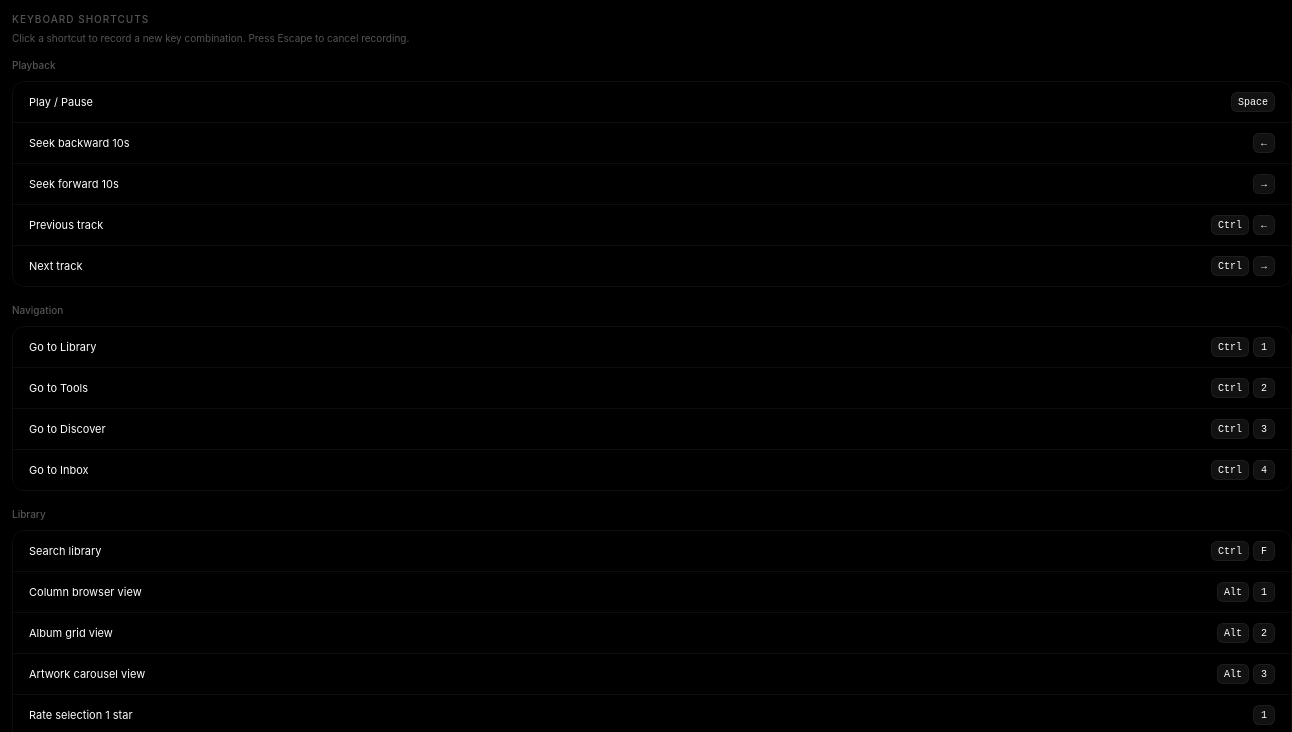
Test: ShortcutsSection › records a new binding on keydown
Click the button with test id "shortcut-playPause": (1239, 102) [1203, 92, 1275, 112]
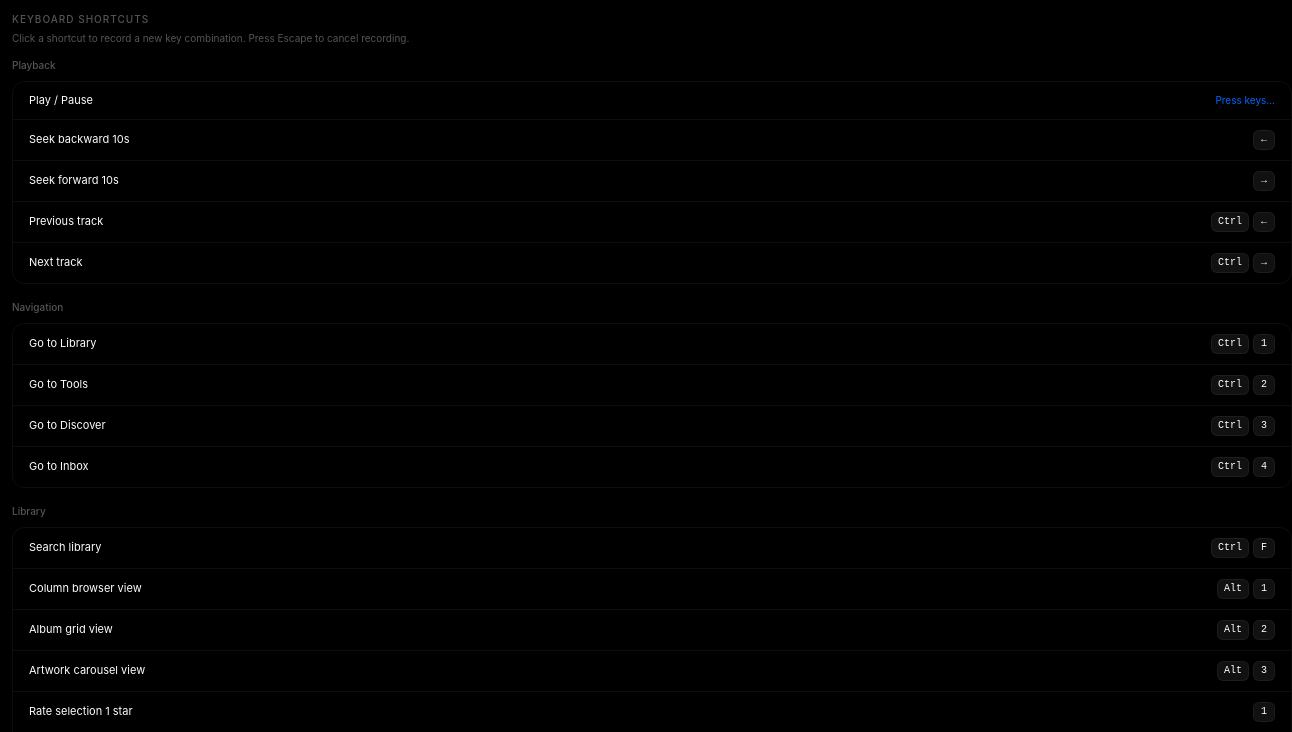
Press KeyK
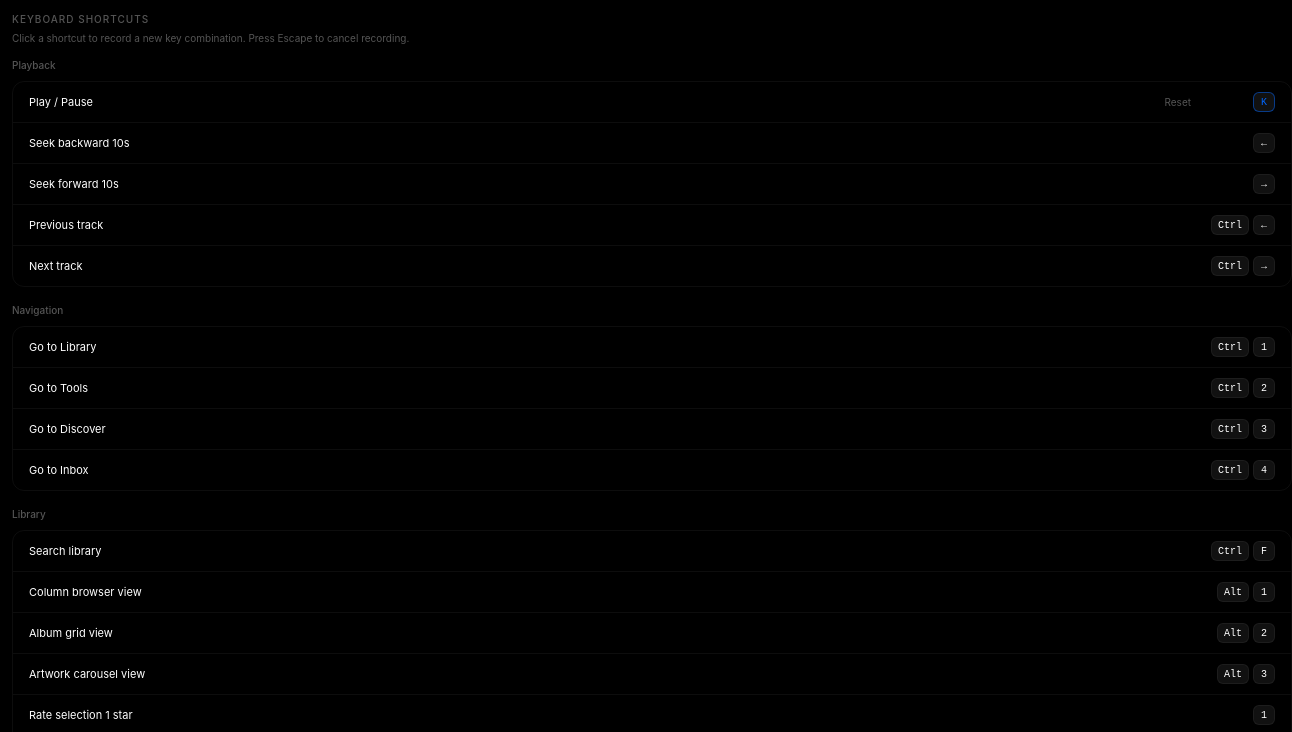
Result: the text "Press keys…" is gone
